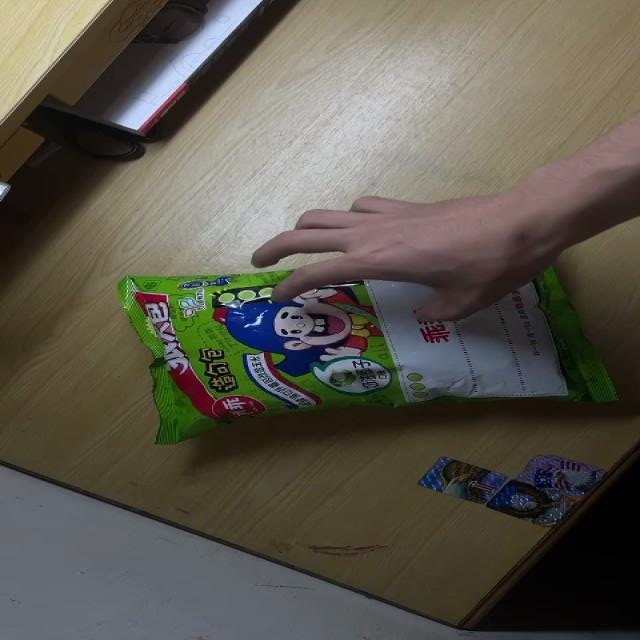Good-Luck: (117, 233, 622, 445)
